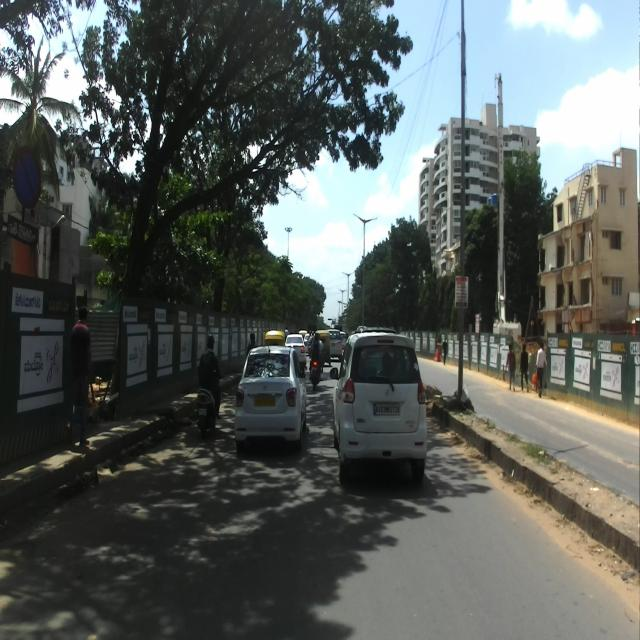Car_Hyundai: (232, 344, 307, 454)
Car_Maruti-Suzuki: (329, 329, 429, 487)
scooter: (195, 364, 223, 440)
